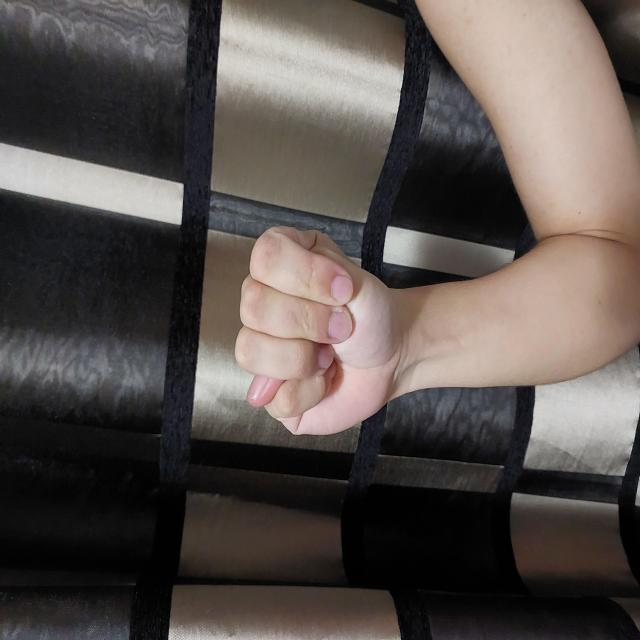M: (202, 232, 417, 407)
